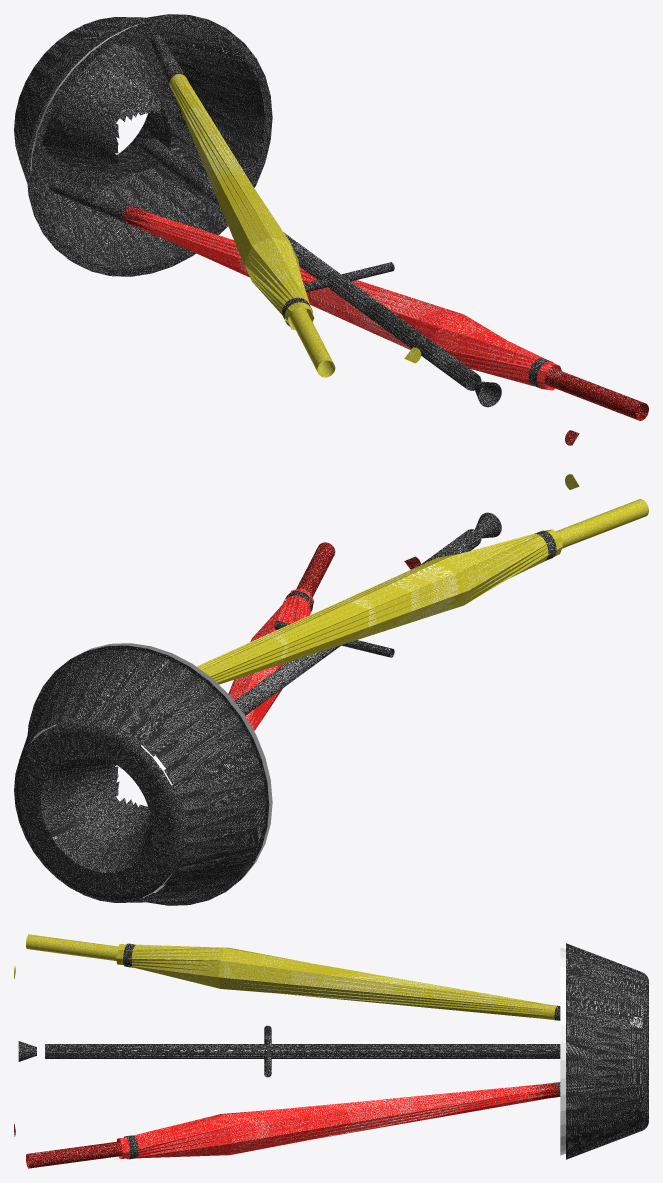
3 views of the same model, one above another, from view 1: azimuth 30°, elevation 25°; view 2: azimuth 150°, elevation 25°; view 3: azimuth 270°, elevation 25° (orthographic). The views are drawn at different scales.
Visible parts, largest first — view 1: umbrella stand; view 2: umbrella stand; view 3: umbrella stand.
Part boxes in pixels (bbox=[...]): umbrella stand: bbox=[14, 14, 648, 445]; umbrella stand: bbox=[14, 474, 648, 905]; umbrella stand: bbox=[14, 934, 648, 1168].
Size of the model in its own units: 0.4139 by 0.3028 by 0.8581.
